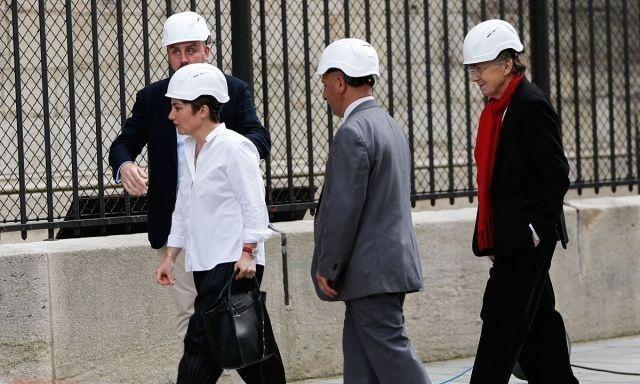helmet: (458, 17, 525, 69), (311, 34, 386, 79), (161, 64, 228, 104), (154, 10, 214, 47)
no_wear: (314, 112, 417, 294), (473, 97, 564, 253), (170, 131, 262, 274)
